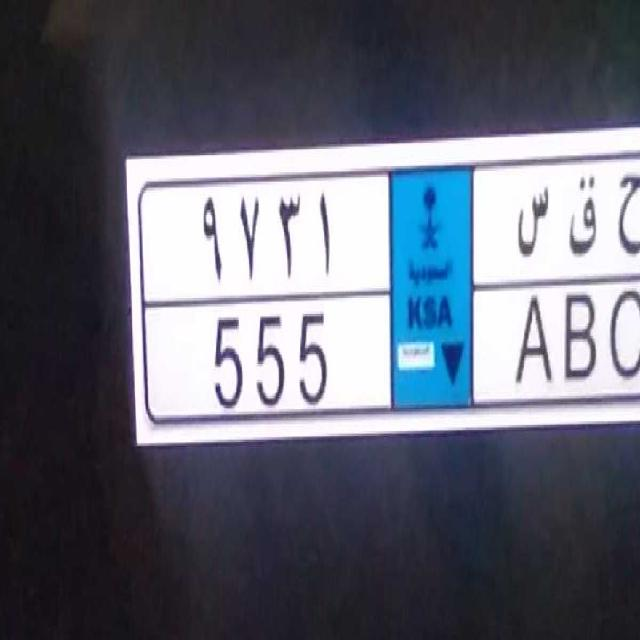license_plate: (192, 279, 640, 419)
